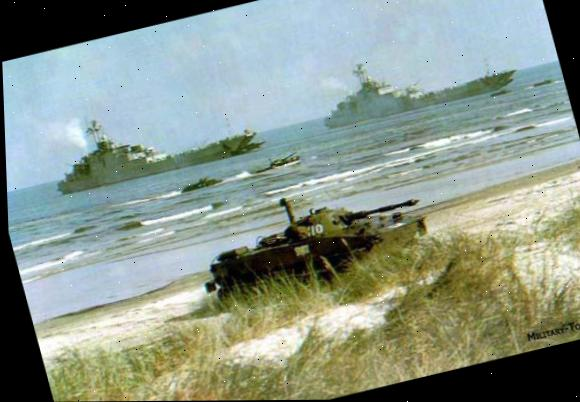tank: (185, 165, 441, 321), (252, 148, 302, 174), (179, 171, 226, 197)
